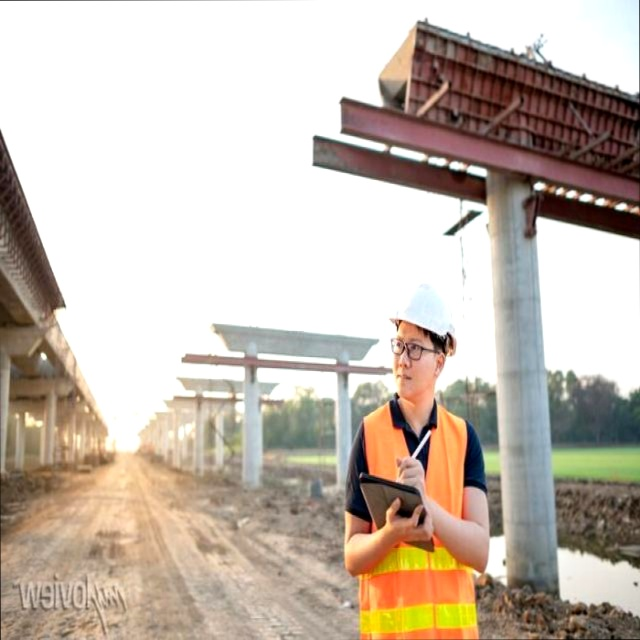goggles: (188, 329, 255, 369)
helmet: (176, 276, 250, 340)
vest: (164, 400, 278, 638)
